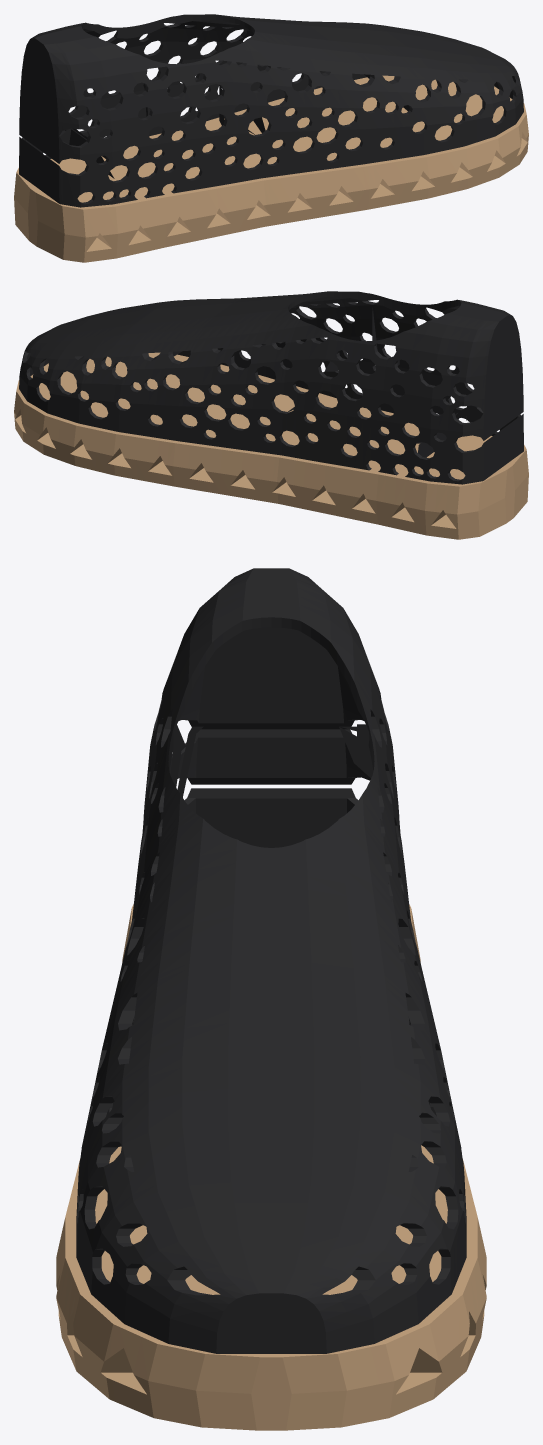
File: coral-truss.glb
3 renders of one model, top to bottom at view 1: azimuth 30°, elevation 25°; view 2: azimuth 150°, elevation 25°; view 3: azimuth 270°, elevation 25°, orthographic. The views are drawn at different scales.
Visible parts, largest first — view 1: coral-truss_upper, coral-truss_sole; view 2: coral-truss_upper, coral-truss_sole; view 3: coral-truss_upper, coral-truss_sole.
Part boxes in pixels (<box>): coral-truss_upper: <box>19,14,523,207</box>; coral-truss_sole: <box>14,75,528,262</box>; coral-truss_upper: <box>19,291,523,484</box>; coral-truss_sole: <box>14,352,528,539</box>; coral-truss_upper: <box>76,568,466,1353</box>; coral-truss_sole: <box>56,904,486,1430</box>.
Size of the model in its own units: 0.3 by 0.1205 by 0.117.
